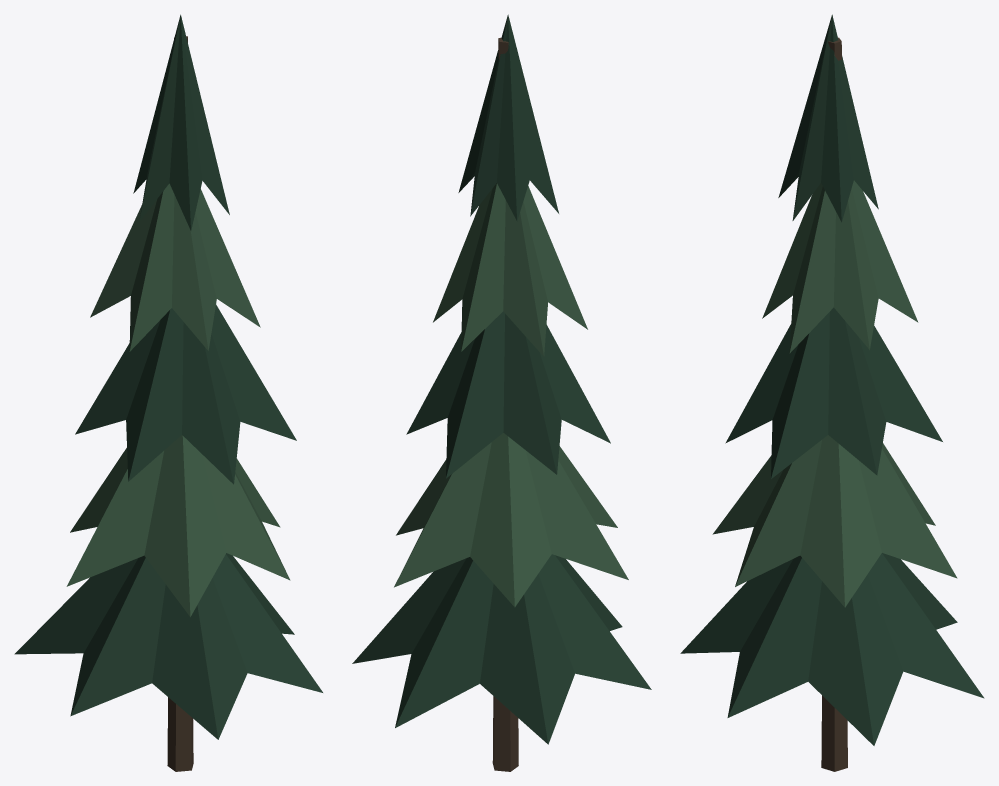
File: pine_tall_lod1.glb
The picture shows the model from 3 angles, left to right: view 1: azimuth 30°, elevation 25°; view 2: azimuth 150°, elevation 25°; view 3: azimuth 270°, elevation 25°; orthographic projection.
Visible parts, largest first — view 1: pine_tall_lod1; view 2: pine_tall_lod1; view 3: pine_tall_lod1.
Part boxes in pixels (box(x1,y1,x2,y2)): pine_tall_lod1: box(14, 14, 322, 771); pine_tall_lod1: box(352, 14, 651, 771); pine_tall_lod1: box(680, 14, 984, 771).
Size of what is drawn, in the model's own units: 3.24 by 8.9 by 3.27.
Materials: 1 (1 with a texture image).
